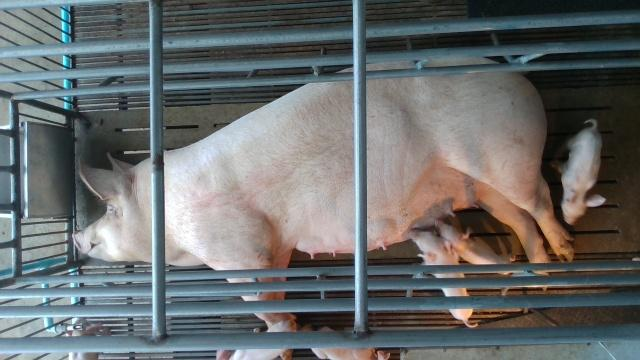piglet: (409, 227, 480, 328), (549, 117, 605, 225), (435, 218, 523, 276), (225, 318, 300, 359), (310, 327, 391, 360)
sow-sleep-lactate: (72, 58, 572, 359)
